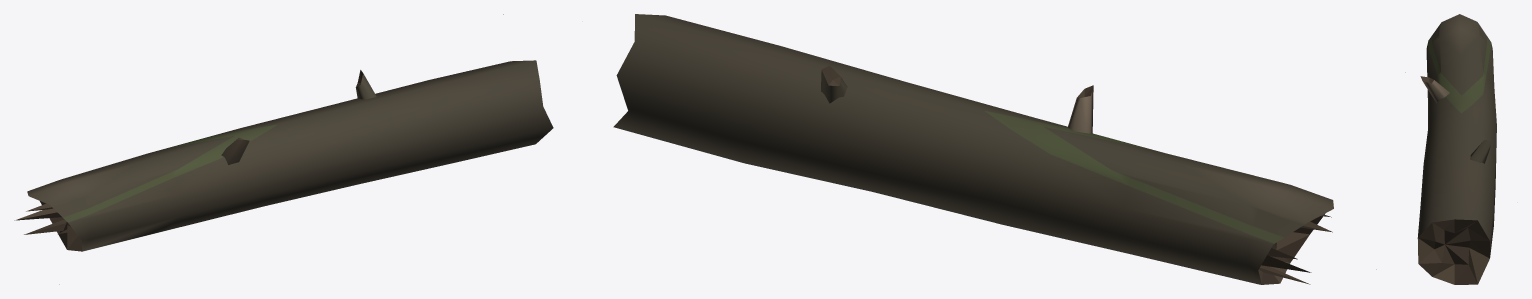
Rendered from Log2b.glb.
3 views of the same model, side by side, from view 1: azimuth 30°, elevation 25°; view 2: azimuth 150°, elevation 25°; view 3: azimuth 270°, elevation 25° (orthographic). The views are drawn at different scales.
Parts seen in each view (by area): view 1: Log2b; view 2: Log2b; view 3: Log2b.
Boxes of the visible parts, x1,y1,x2,y2 form: Log2b: (14,14,553,284); Log2b: (613,14,1376,284); Log2b: (1405,14,1496,284).
Size of the model in its own units: 15.26 by 2.89 by 3.29.
